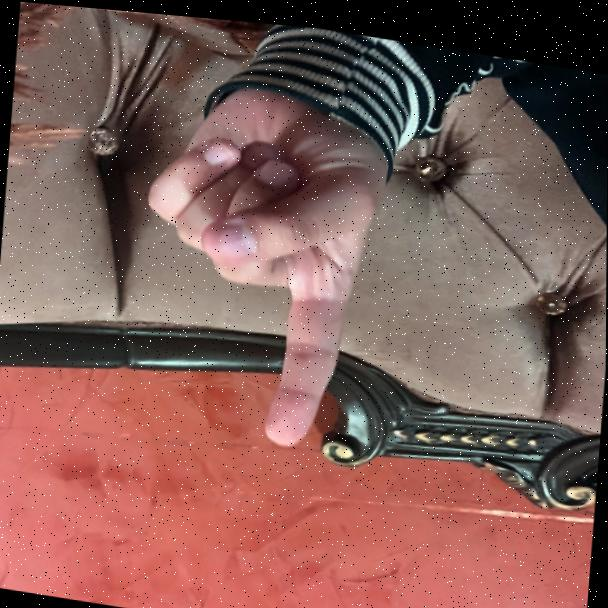one: (123, 43, 414, 466)
